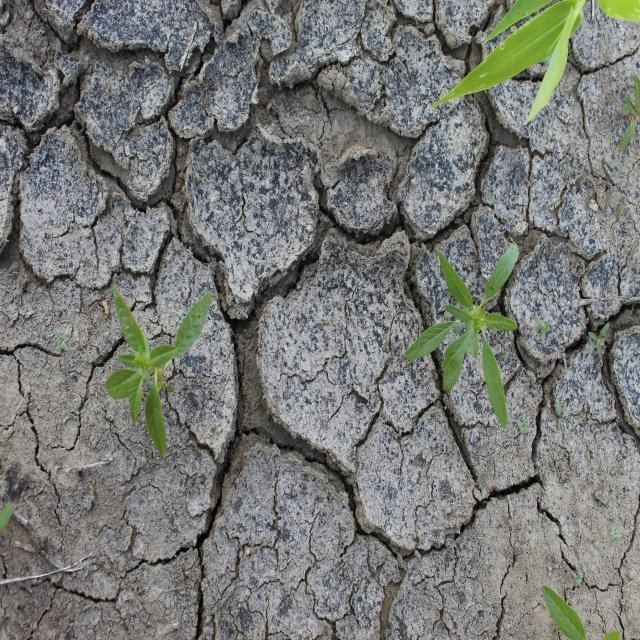Waterhemp: (403, 241, 521, 432), (104, 281, 214, 459)
